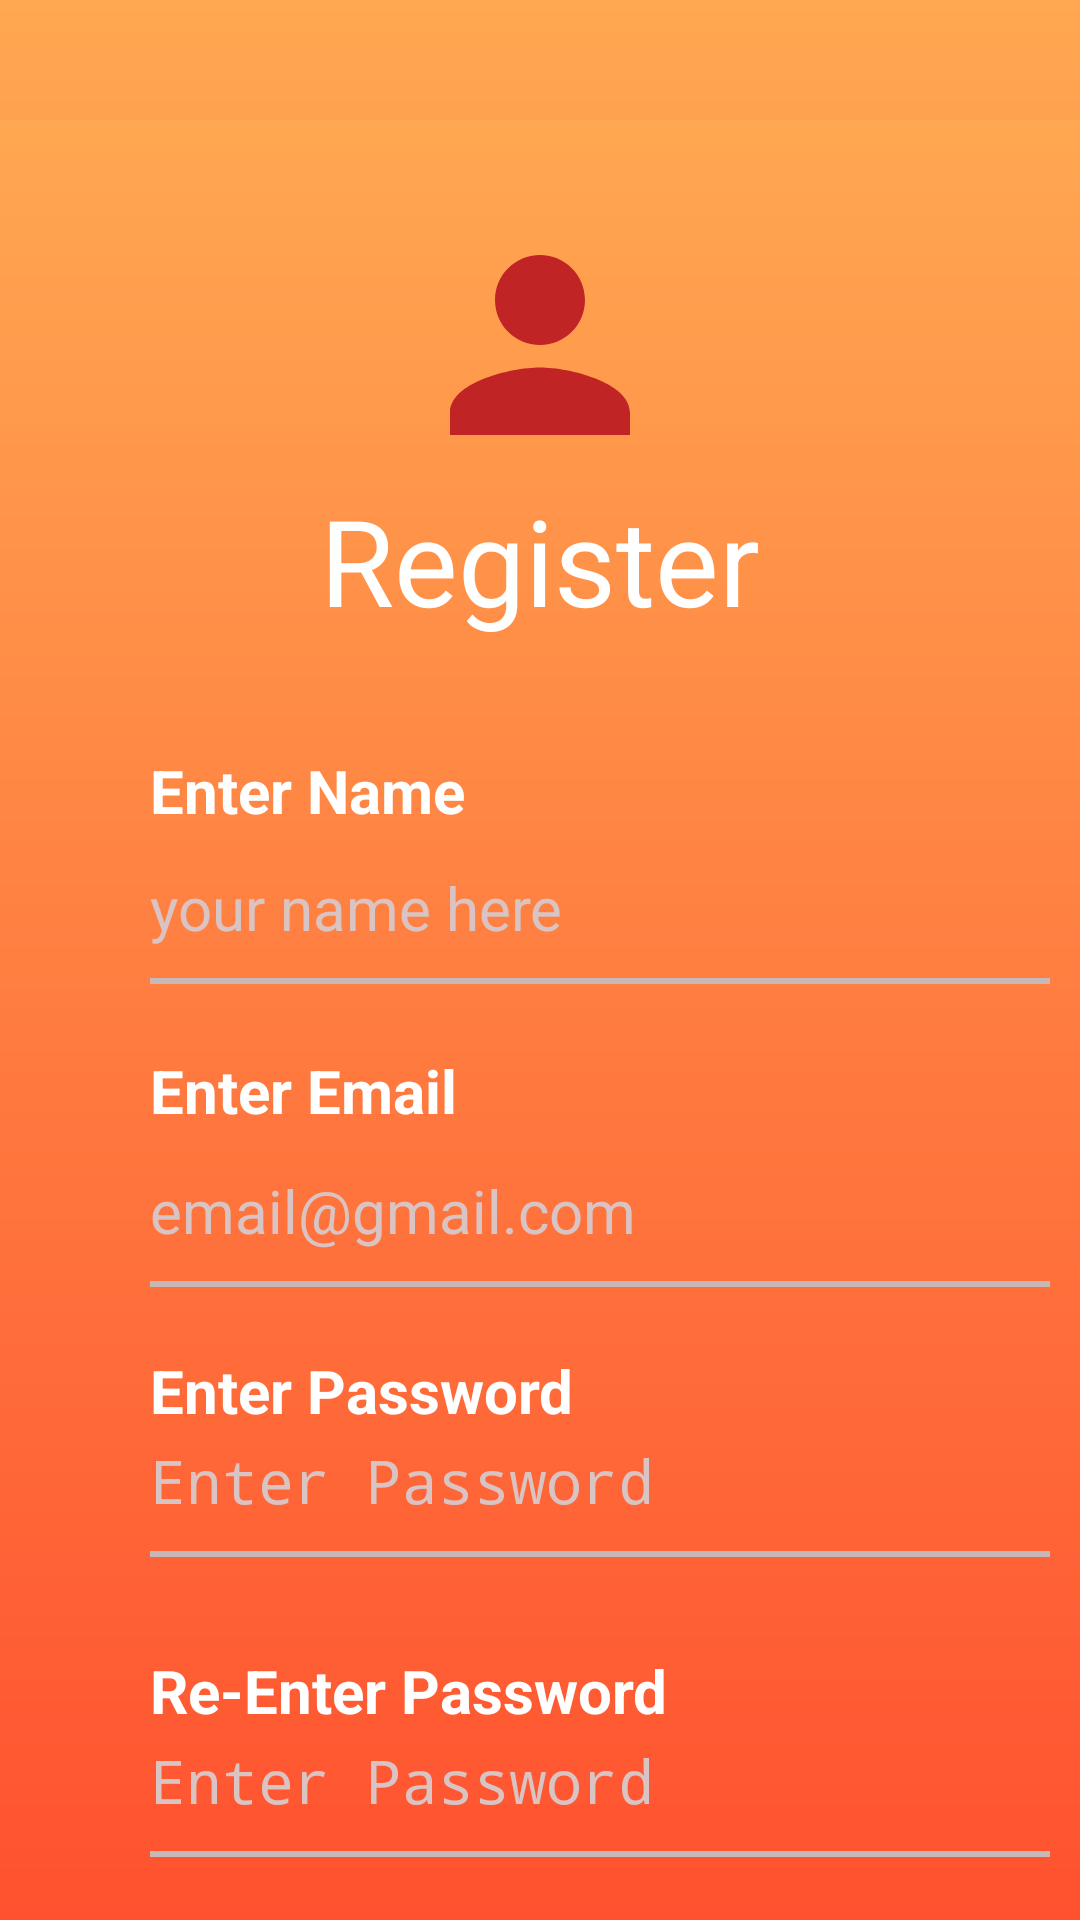

Point at icon controls on the screen. Image size 1080 x 1920, points as point (x, y).
person: point (540, 345)
